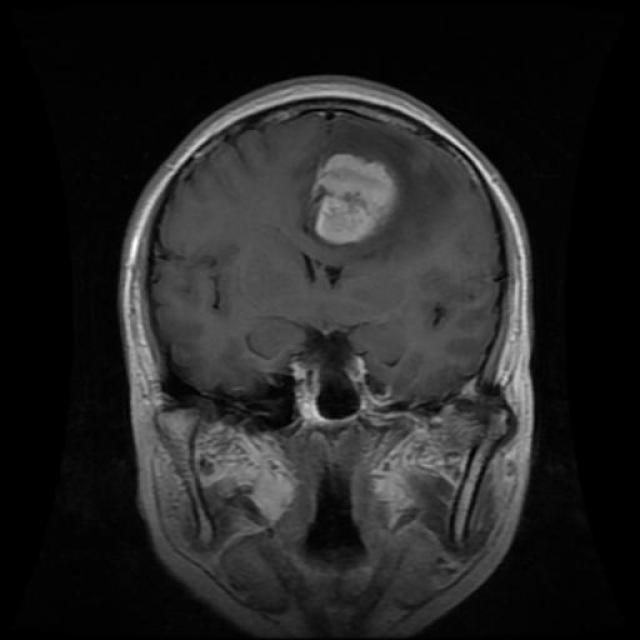Tumor: (306, 155, 402, 245)
